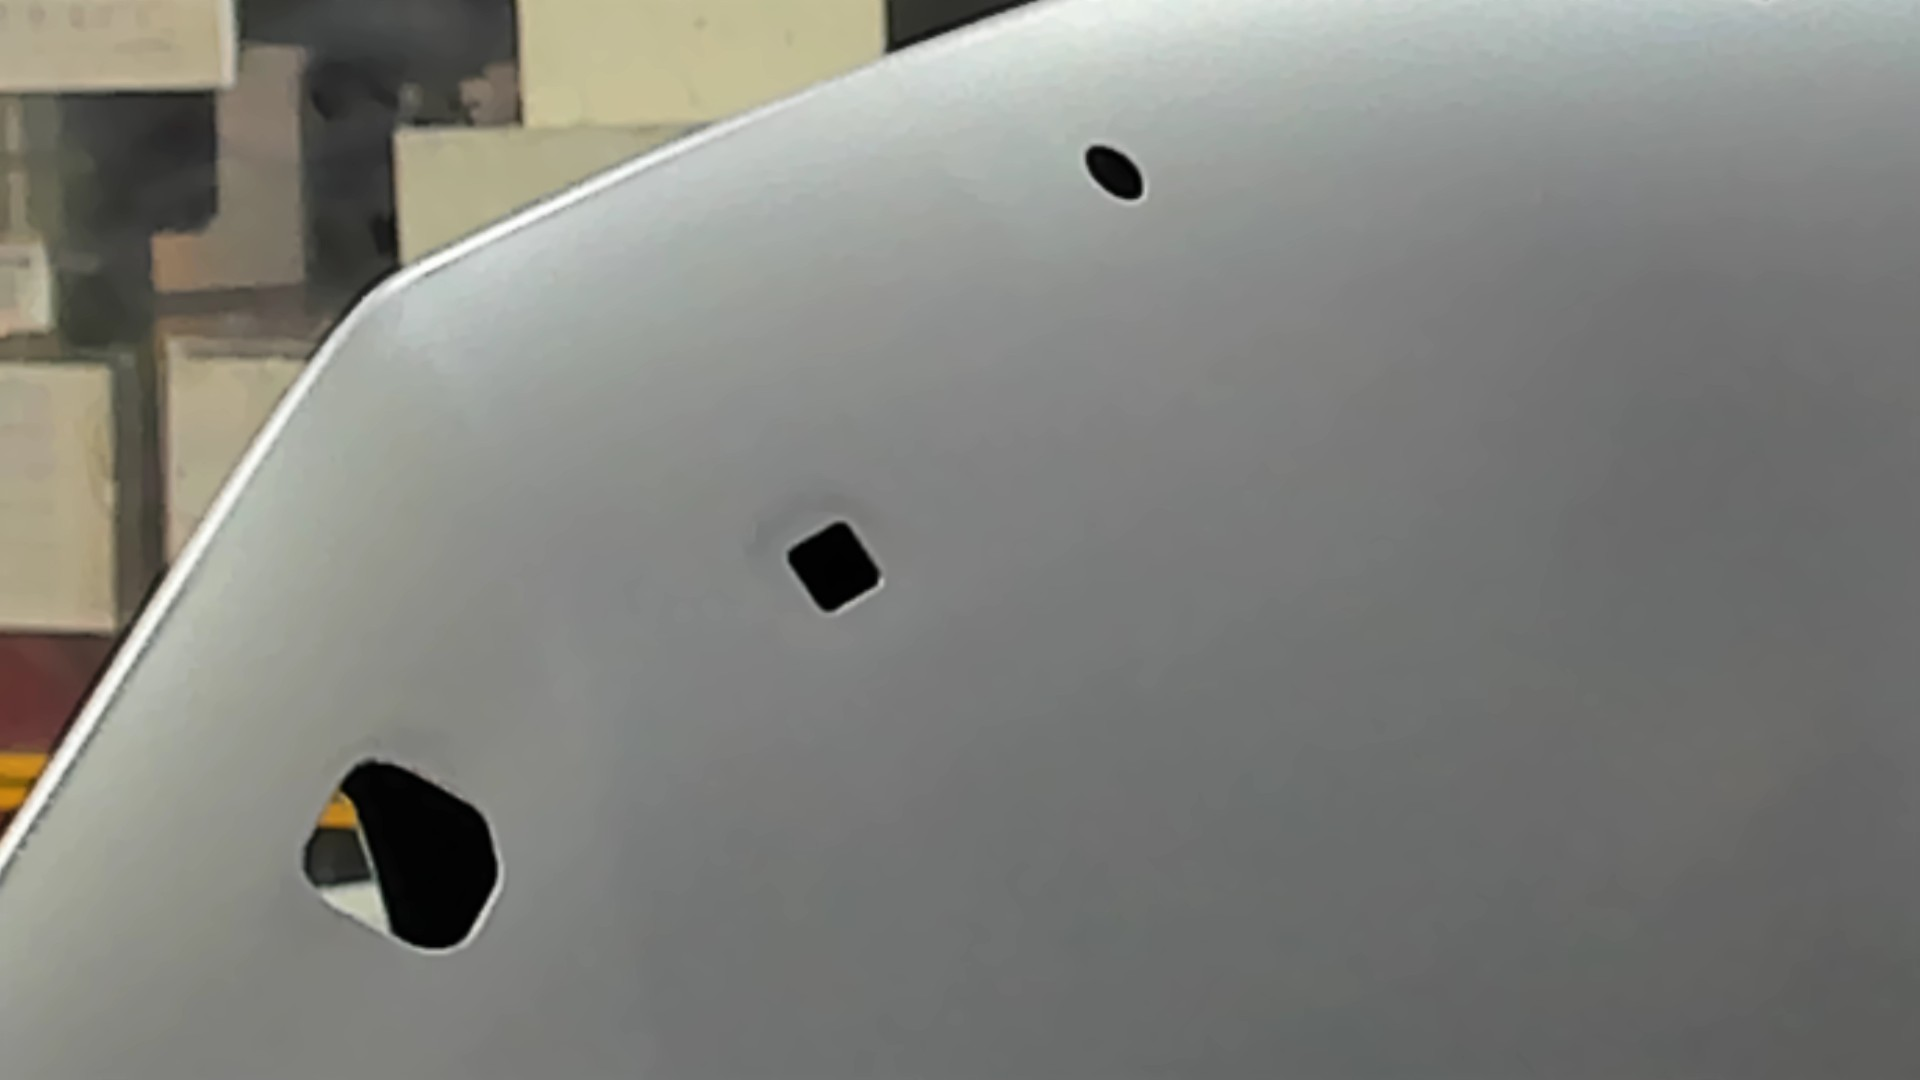chico: (1080, 137, 1147, 204)
grande: (295, 752, 506, 957)
mediano: (779, 516, 886, 618)
